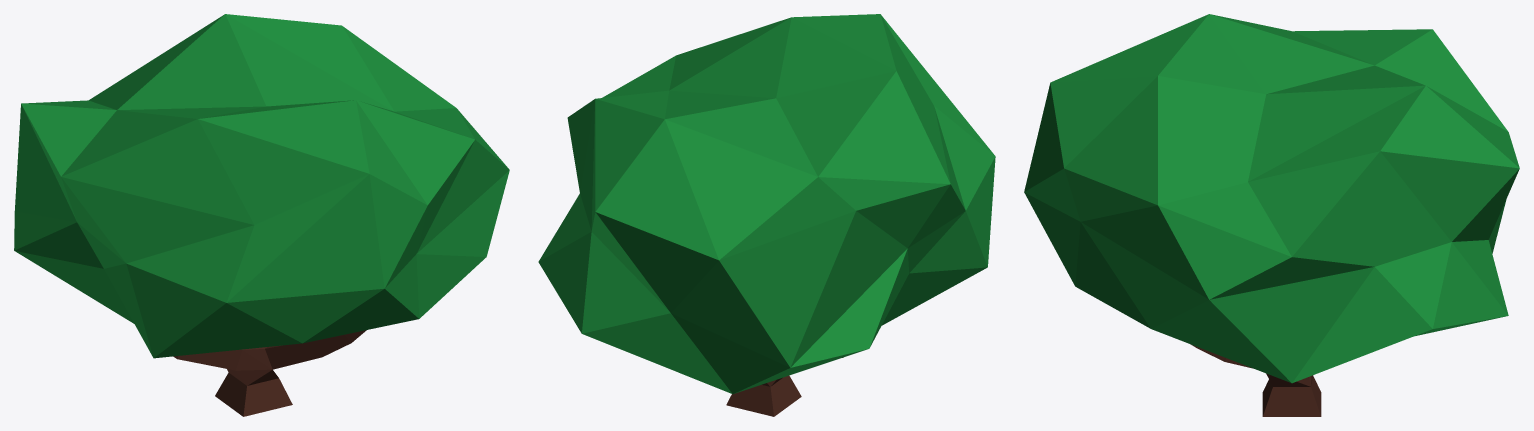
The model's file is Bush3.fbx.
3 renders of one model, left to right at view 1: azimuth 30°, elevation 25°; view 2: azimuth 150°, elevation 25°; view 3: azimuth 270°, elevation 25°, orthographic. The views are drawn at different scales.
Visible parts, largest first — view 1: Leaves9, Trunk9; view 2: Leaves9, Trunk9; view 3: Leaves9, Trunk9.
Boxes of the visible parts, x1=… form: Leaves9: x1=14, y1=14, x2=509, y2=358; Trunk9: x1=173, y1=330, x2=366, y2=416; Leaves9: x1=538, y1=14, x2=995, y2=394; Trunk9: x1=726, y1=357, x2=843, y2=416; Leaves9: x1=1024, y1=14, x2=1519, y2=383; Trunk9: x1=1190, y1=344, x2=1321, y2=416.
Size of the model in its own units: 144 by 114 by 148.
